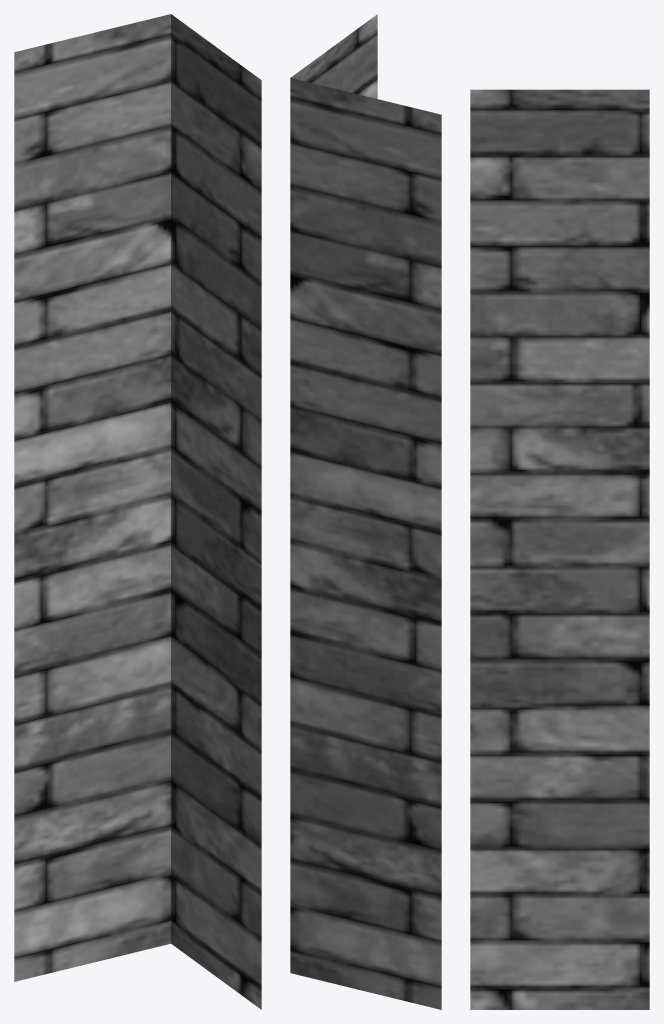
Rendered from W_A1_Eckverschluß [Steine]_923.glb.
3 renders of one model, left to right at view 1: azimuth 30°, elevation 25°; view 2: azimuth 150°, elevation 25°; view 3: azimuth 270°, elevation 25°, orthographic. The views are drawn at different scales.
Visible parts, largest first — view 1: pPlaneShape7; view 2: pPlaneShape7; view 3: pPlaneShape7.
Part boxes in pixels (x1=…): pPlaneShape7: x1=14, y1=14, x2=261, y2=1009; pPlaneShape7: x1=290, y1=14, x2=441, y2=1009; pPlaneShape7: x1=470, y1=89, x2=649, y2=1009.
Size of the model in its own units: 0.0615 by 0.3486 by 0.0615.
1 material, 1 textured.
